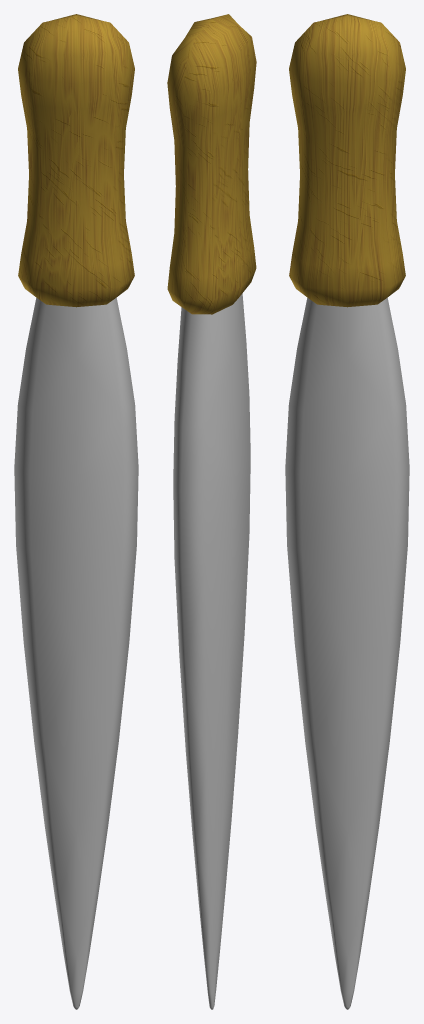
Rendered from Dagger.fbx.
The picture shows the model from 3 angles, left to right: view 1: azimuth 90°, elevation 25°; view 2: azimuth 150°, elevation 25°; view 3: azimuth 270°, elevation 25°; orthographic projection.
Visible parts, largest first — view 1: Dagger; view 2: Dagger; view 3: Dagger.
Part boxes in pixels (x1,y1,x2,y2): Dagger: (14, 14, 138, 1009); Dagger: (167, 14, 256, 1009); Dagger: (285, 14, 409, 1009).
Bounding box in the file's own units: 2.97 × 46.25 × 5.24.
